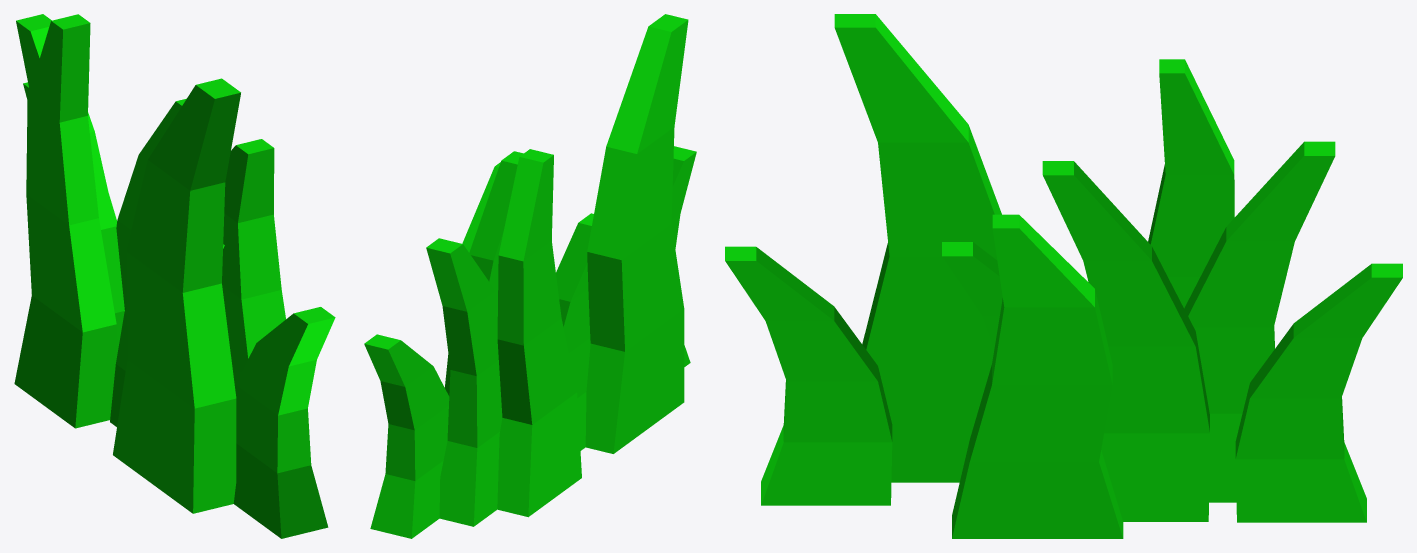
The model's file is Trawa.FBX.
The picture shows the model from 3 angles, left to right: view 1: azimuth 30°, elevation 25°; view 2: azimuth 150°, elevation 25°; view 3: azimuth 270°, elevation 25°; orthographic projection. The views are drawn at different scales.
Visible parts, largest first — view 1: Box029; view 2: Box029; view 3: Box029.
Boxes of the visible parts, x1,y1,x2,y2 form: Box029: (14,14,335,538); Box029: (364,14,696,538); Box029: (725,14,1402,538).
Bounding box in the file's own units: 2.39 × 6.35 × 8.66.
